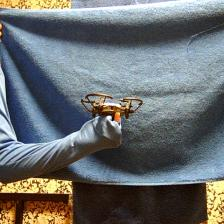drone: (81, 92, 143, 120)
